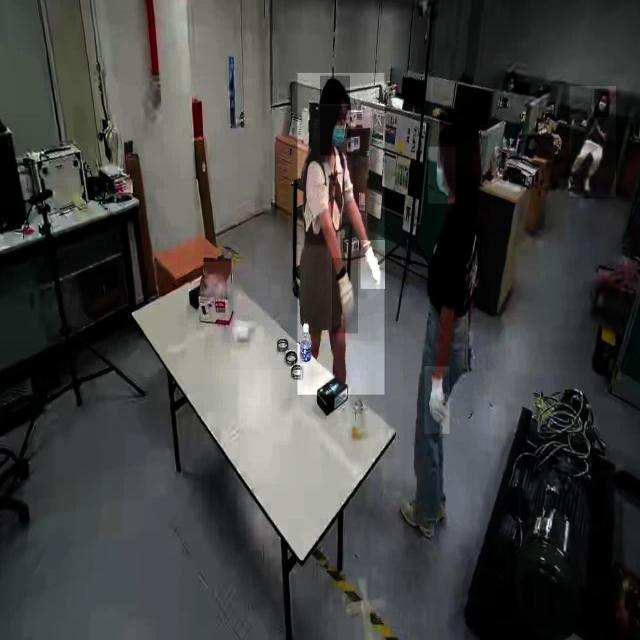face_mask: (428, 146, 456, 204), (320, 106, 351, 156), (594, 89, 608, 117)
hand_glove: (332, 258, 358, 334), (424, 366, 450, 435), (360, 240, 386, 290)
head_nohelmet: (440, 110, 480, 142), (320, 75, 350, 105), (598, 91, 610, 96)
person: (403, 110, 491, 542), (297, 73, 385, 395), (570, 86, 616, 198)
shoes: (398, 492, 438, 545)
